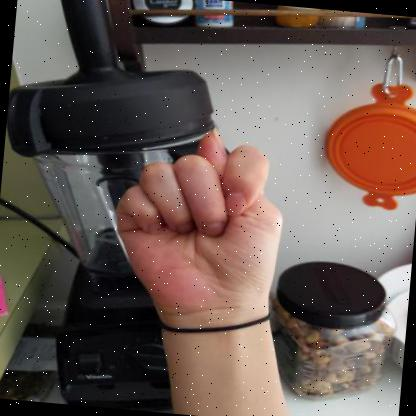T: (115, 127, 283, 329)
